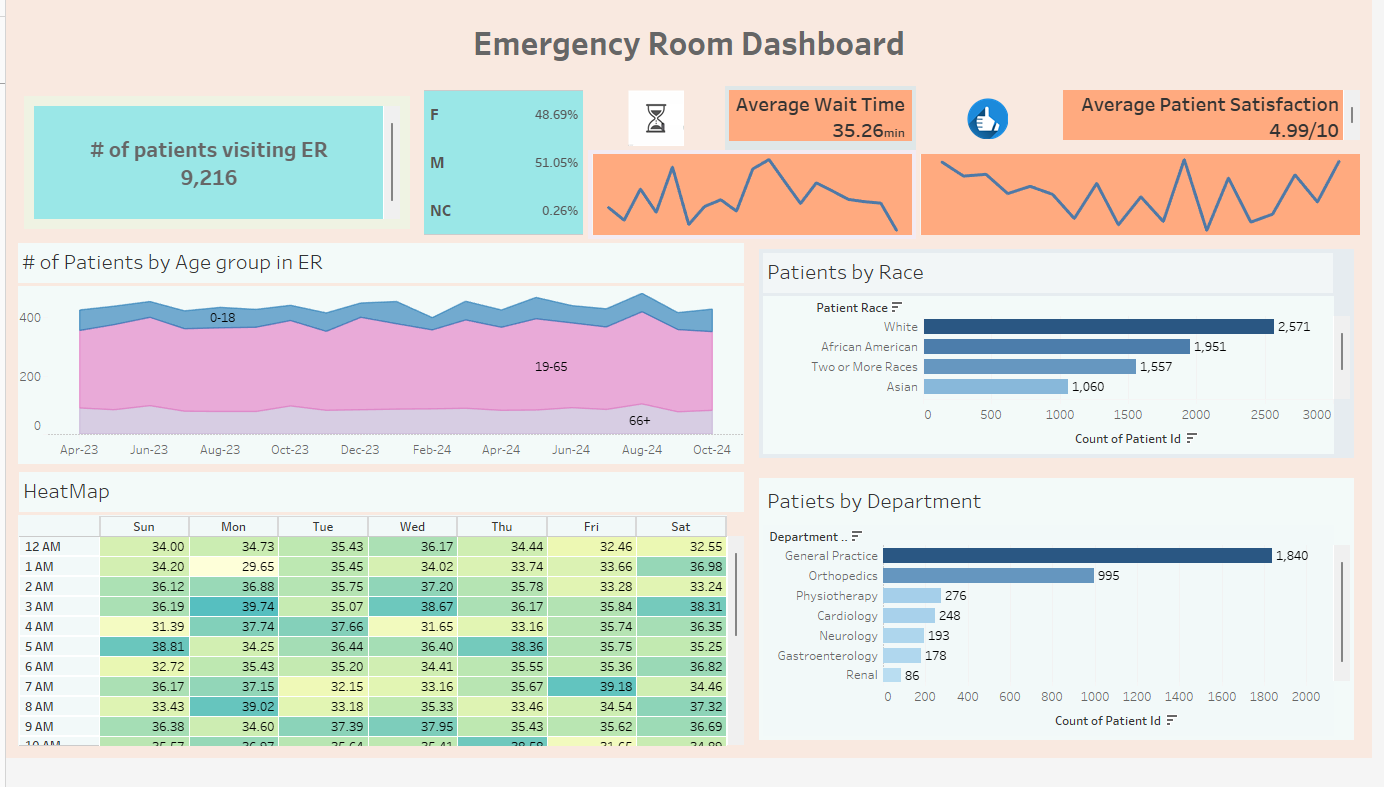

The dashboard page shown, as its layout file describes it:
{"tool":"tableau","page":{"name":"Dashboard 1","canvas":[1366,768],"ordinal":0},"visuals":[{"type":"text","box":[8,8,1350,88]},{"type":"worksheet","title":"Gender","mark":"Automatic","rows":["Patient Gender"],"box":[414,96,168,153.2]},{"type":"image","param":"C:/Users/amans/Downloads/istockphoto-[number redacted]-1024x1024.jpg","box":[582,96,156,68.1]},{"type":"worksheet","title":"Average WaitTime","mark":"Automatic","box":[738,96,172,68.1]},{"type":"worksheet","title":"# Pats ER","mark":"Automatic","box":[18,106,386,133.2]},{"type":"worksheet","title":"WaitTime  Average","mark":"Automatic","rows":["Patient Waittime"],"cols":["Patient Admission Date"],"box":[582,164.1,328,85.1]},{"type":"worksheet","title":"# of Patients by Age","mark":"Area","rows":["Patient Id"],"cols":["Patient Admission Date"],"box":[18,259.2,714.5,208.8]},{"type":"worksheet","title":"Patients by Race","mark":"Bar","rows":["Patient Race"],"cols":["Patient Id"],"box":[752.5,259.2,595.5,208.8]},{"type":"worksheet","title":"HeatMap","mark":"Square","rows":["Patient Admission Date"],"cols":["Patient Admission Date"],"box":[18,488,714.5,262]},{"type":"worksheet","title":"Patiets by Department","mark":"Bar","rows":["Department Referral"],"cols":["Patient Id"],"box":[752.5,488,595.5,262]}]}

Visuals, with their boxes in screenshot pixels (x1, y1, x2, y2), scaled from the page's 1366x768 canvas onto the 1384x787 screenshot:
text: 8,8,1376,98
"Gender" worksheet: 419,98,590,255
image: 590,98,748,168
"Average WaitTime" worksheet: 748,98,922,168
"# Pats ER" worksheet: 18,109,409,245
"WaitTime  Average" worksheet: 590,168,922,255
"# of Patients by Age" worksheet (Area marks): 18,266,742,480
"Patients by Race" worksheet (Bar marks): 762,266,1366,480
"HeatMap" worksheet (Square marks): 18,500,742,769
"Patiets by Department" worksheet (Bar marks): 762,500,1366,769
